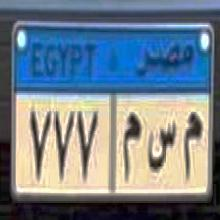7: (76, 106, 101, 180), (29, 104, 50, 185), (54, 107, 75, 187)
meem: (181, 104, 203, 186), (121, 109, 143, 187)
seen: (147, 117, 178, 180)
